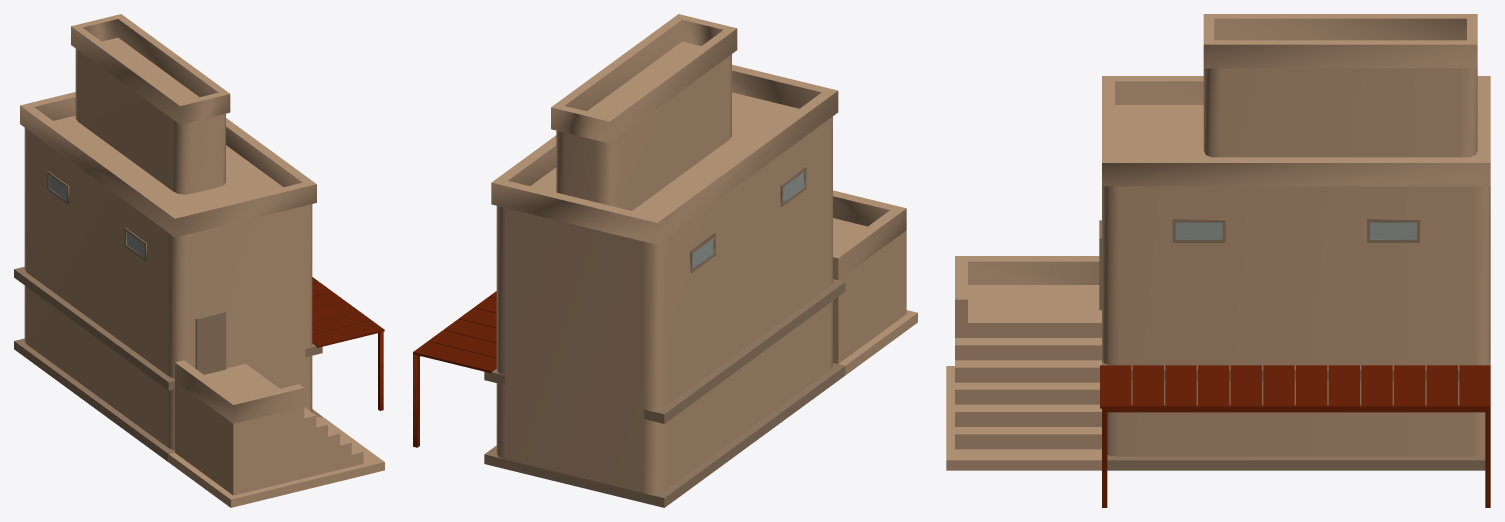
File: Desert Houses(1).glb
The picture shows the model from 3 angles, left to right: view 1: azimuth 30°, elevation 25°; view 2: azimuth 150°, elevation 25°; view 3: azimuth 270°, elevation 25°; orthographic projection. The views are drawn at different scales.
Parts seen in each view (by area): view 1: Root; view 2: Root; view 3: Root.
Part boxes in pixels (x1=…): Root: x1=14, y1=14, x2=384, y2=507; Root: x1=413, y1=14, x2=917, y2=507; Root: x1=946, y1=14, x2=1490, y2=507.
Size of the model in its own units: 5.84 by 8.15 by 10.21.
